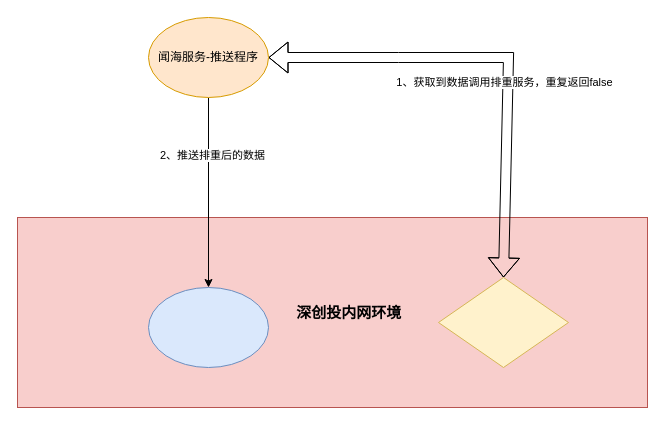
The diagram is 665 pixels wide and 425 high, and some of its shapes have lost their labels. Each missing label, with the box of its shape:
深创投: (148, 286, 268, 368)
深创投排重服务: (438, 276, 568, 368)
